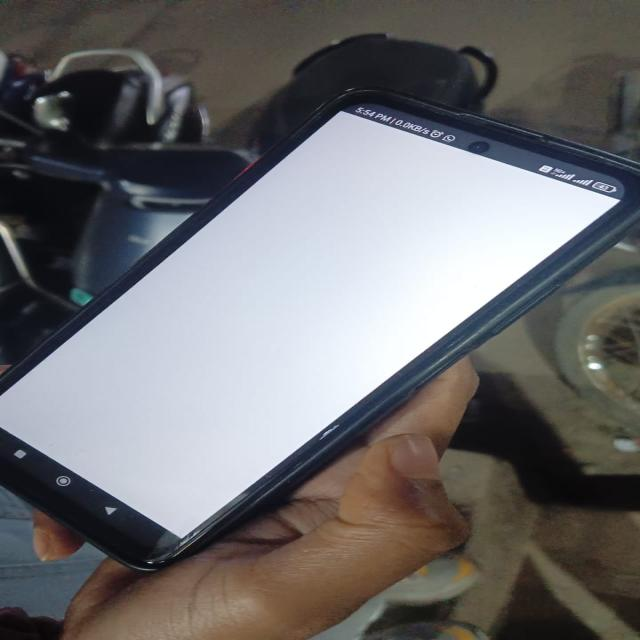mobile: (9, 81, 640, 572)
